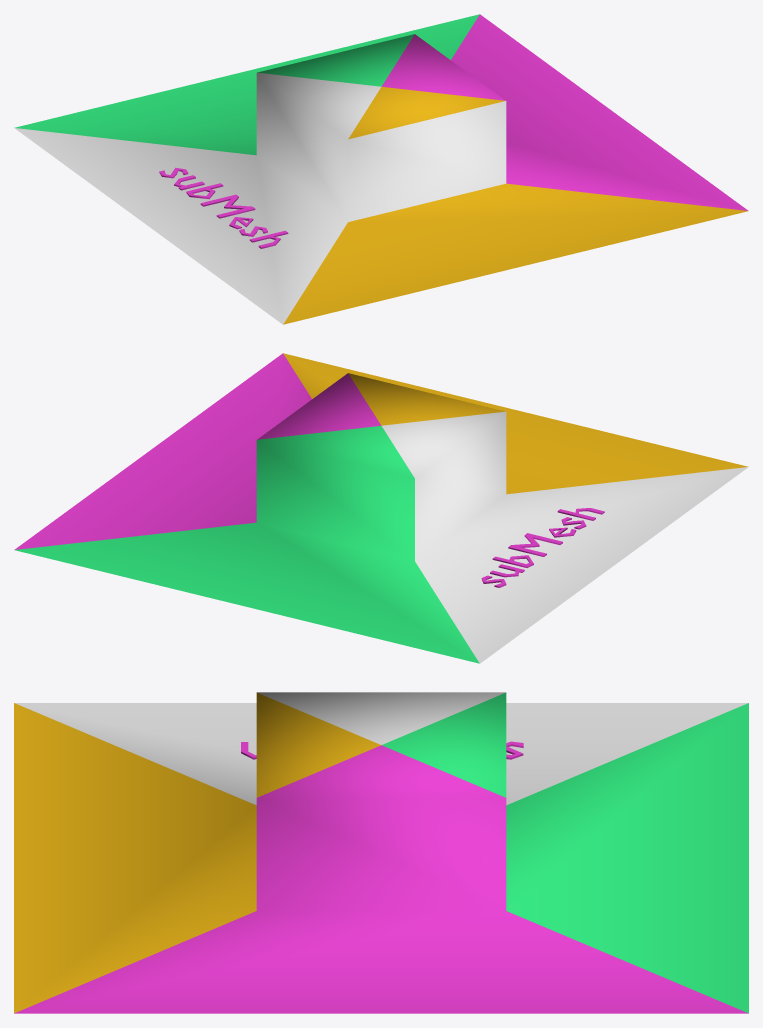
The picture shows the model from 3 angles, top to bottom: view 1: azimuth 30°, elevation 25°; view 2: azimuth 150°, elevation 25°; view 3: azimuth 270°, elevation 25°; orthographic projection. The views are drawn at different scales.
Visible parts, largest first — view 1: subMeshes-gltf.001; view 2: subMeshes-gltf.001; view 3: subMeshes-gltf.001.
Part boxes in pixels (x1,y1,x2,y2): subMeshes-gltf.001: (14, 14, 748, 324); subMeshes-gltf.001: (14, 353, 748, 663); subMeshes-gltf.001: (14, 692, 748, 1013).
Bounding box in the file's own units: 1 × 0.1729 × 1.
